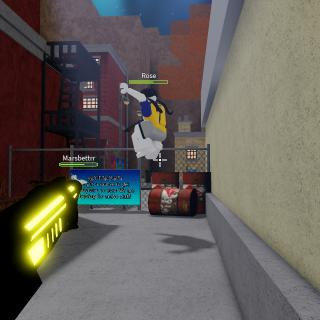username: (120, 84, 168, 160), (142, 72, 158, 78)
